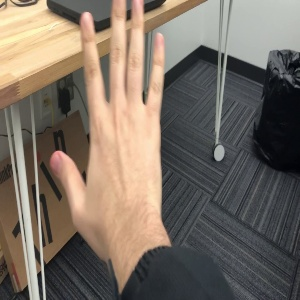hand: (50, 1, 162, 229)
